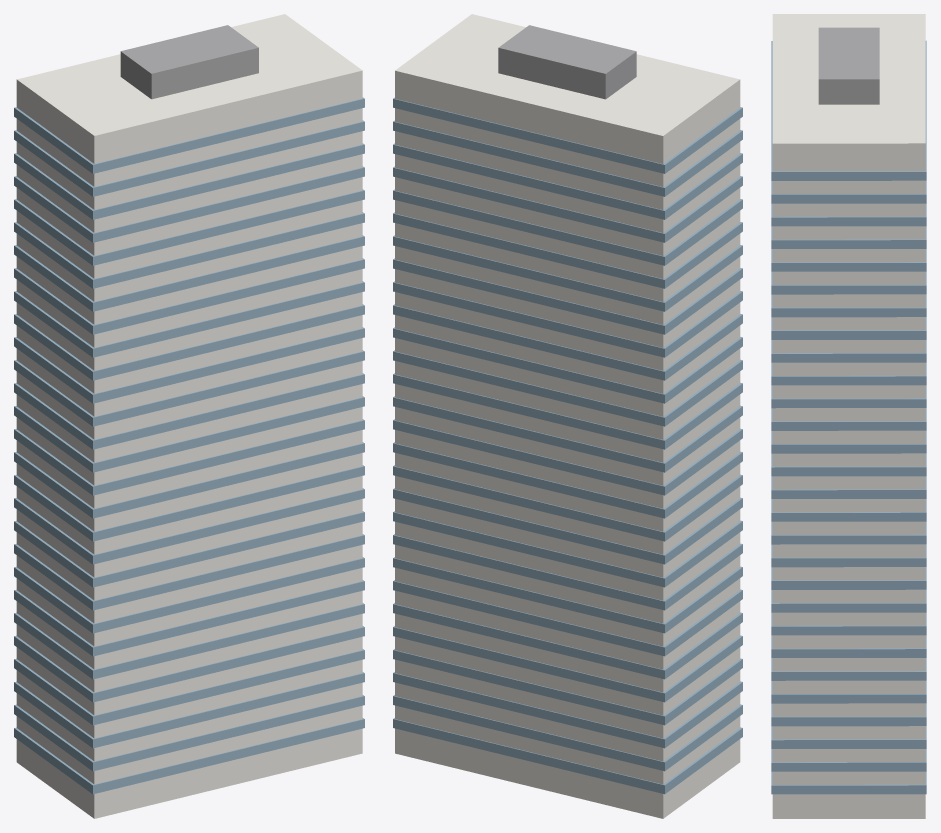
The model's file is basel-messeturm.glb.
3 views of the same model, side by side, from view 1: azimuth 30°, elevation 25°; view 2: azimuth 150°, elevation 25°; view 3: azimuth 270°, elevation 25° (orthographic).
Parts seen in each view (by area): view 1: building; view 2: building; view 3: building.
Boxes of the visible parts, <box> form: building: <box>14,14,364,818</box>; building: <box>393,14,742,818</box>; building: <box>771,14,926,818</box>.
Bounding box in the file's own units: 44.64 × 111 × 22.26.
